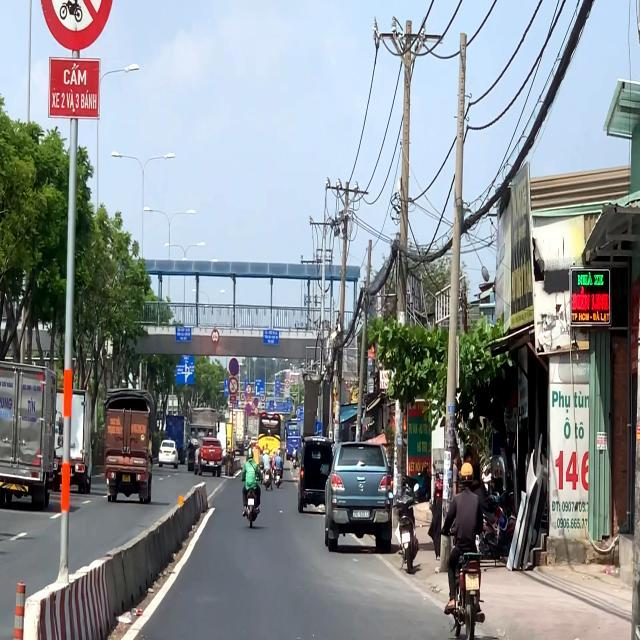Cam dung xe va do xe: (229, 358, 239, 376)
Han che chieu cao: (212, 329, 220, 344)
